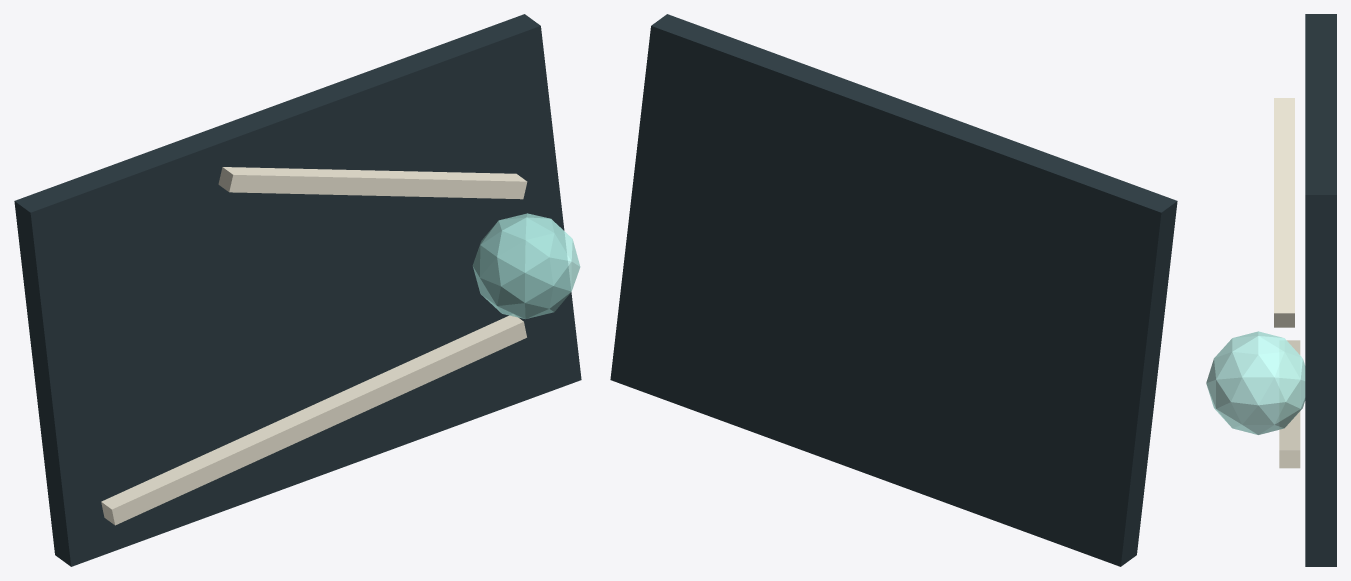
File: 02_world_prop_polish.glb
The picture shows the model from 3 angles, left to right: view 1: azimuth 30°, elevation 25°; view 2: azimuth 150°, elevation 25°; view 3: azimuth 270°, elevation 25°; orthographic projection. The views are drawn at different scales.
Visible parts, largest first — view 1: object_overlay_plate, edge_wear_a, glow_socket, edge_wear_b; view 2: object_overlay_plate; view 3: object_overlay_plate, glow_socket, edge_wear_b, edge_wear_a.
Part boxes in pixels (x1=…): object_overlay_plate: x1=14, y1=14, x2=581, y2=566; edge_wear_a: x1=101, y1=315, x2=526, y2=525; glow_socket: x1=472, y1=213, x2=580, y2=319; edge_wear_b: x1=218, y1=167, x2=527, y2=199; object_overlay_plate: x1=610, y1=14, x2=1177, y2=566; object_overlay_plate: x1=1305, y1=14, x2=1336, y2=566; glow_socket: x1=1206, y1=331, x2=1305, y2=434; edge_wear_b: x1=1274, y1=98, x2=1294, y2=327; edge_wear_a: x1=1279, y1=340, x2=1300, y2=468.
Bounding box in the file's own units: 1.18 × 0.8726 × 0.25.
